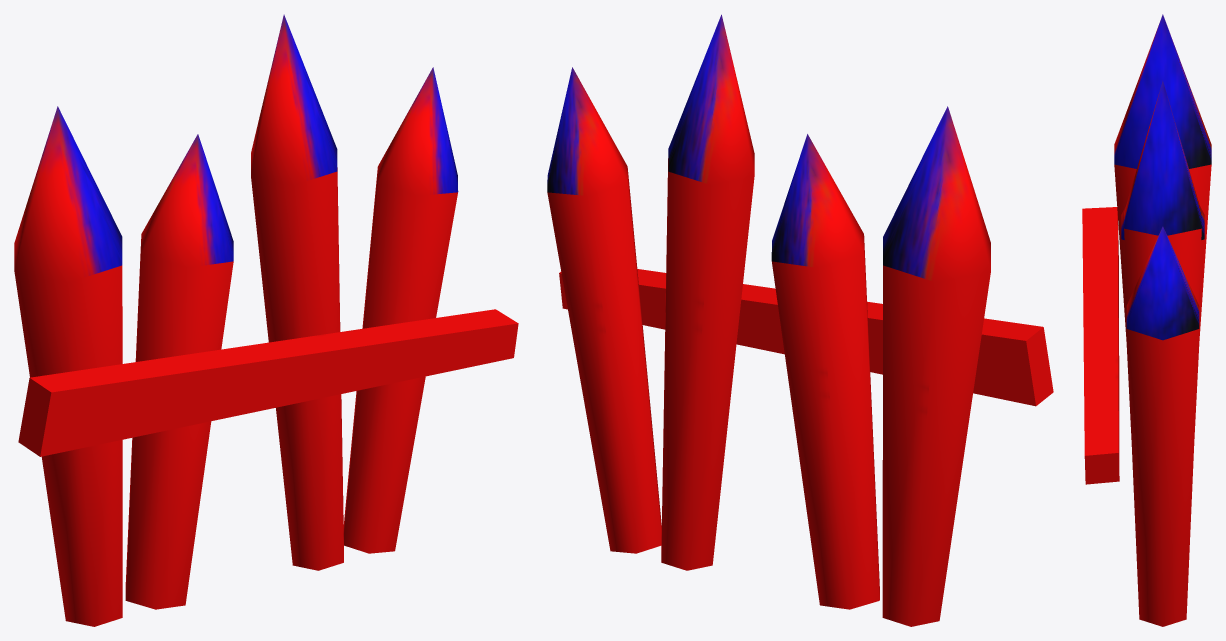
Rendered from wood05.FBX.
3 renders of one model, left to right at view 1: azimuth 30°, elevation 25°; view 2: azimuth 150°, elevation 25°; view 3: azimuth 270°, elevation 25°, orthographic. The views are drawn at different scales.
Visible parts, largest first — view 1: Object008; view 2: Object008; view 3: Object008.
Boxes of the visible parts, box(x1,y1,x2,y2) form: Object008: box(14, 14, 518, 626); Object008: box(547, 14, 1053, 626); Object008: box(1082, 14, 1211, 626).
Bounding box in the file's own units: 156 × 172 × 40.44.
